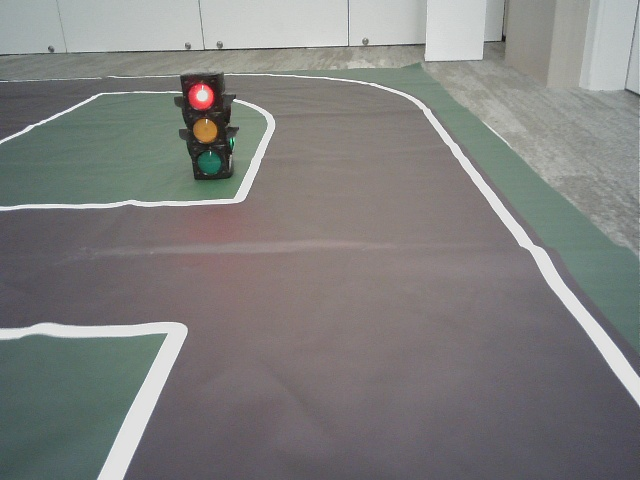red: (184, 78, 225, 175)
